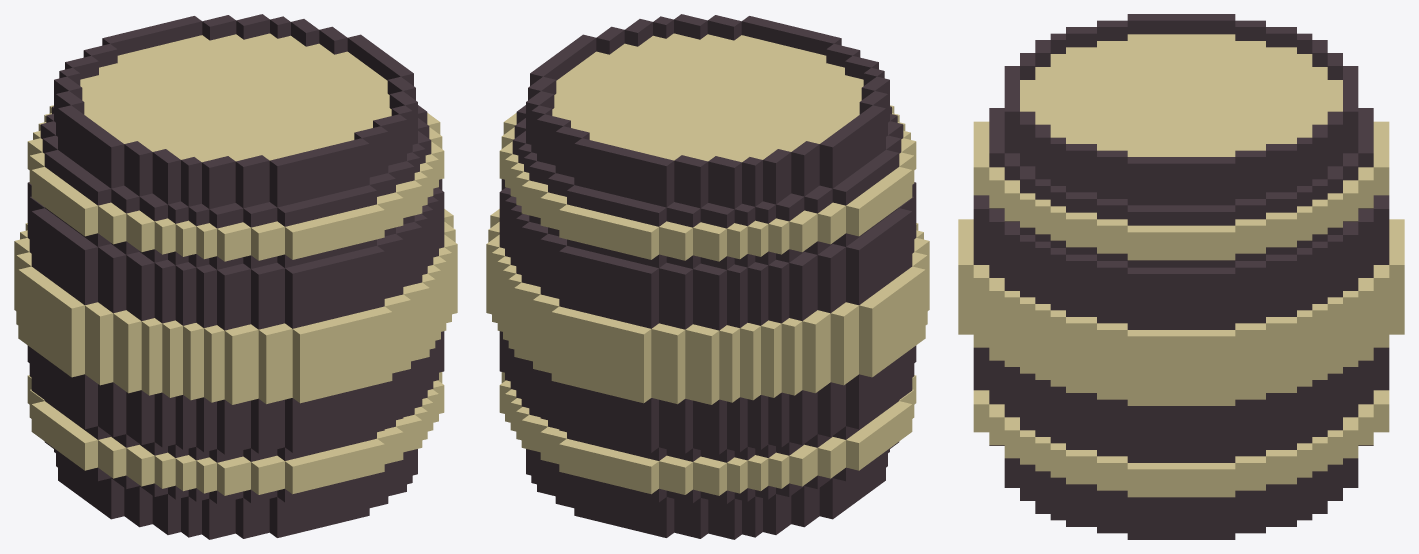
File: barril.obj
3 views of the same model, side by side, from view 1: azimuth 30°, elevation 25°; view 2: azimuth 150°, elevation 25°; view 3: azimuth 270°, elevation 25° (orthographic).
Size of the model in its own units: 2.9 by 2.7 by 2.9.
1 material, 1 textured.
